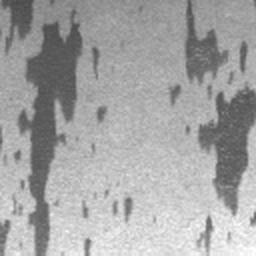Red iron sheet: (0, 0, 101, 256), (169, 0, 256, 216), (197, 215, 214, 255), (113, 196, 133, 223), (96, 106, 108, 123), (83, 238, 92, 256), (0, 124, 4, 151), (82, 201, 88, 219), (250, 212, 256, 225), (252, 0, 256, 9)
